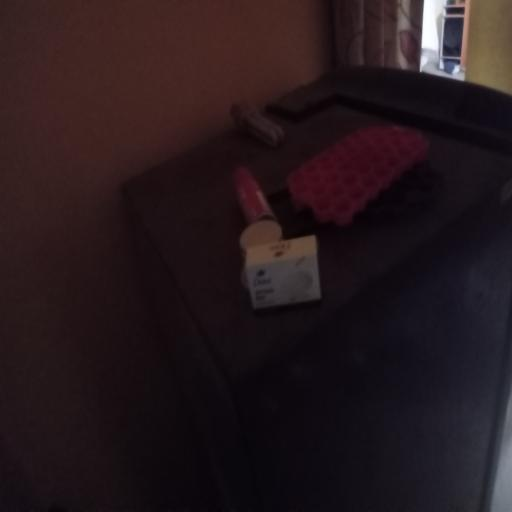Dove`1: (244, 235, 325, 311)
